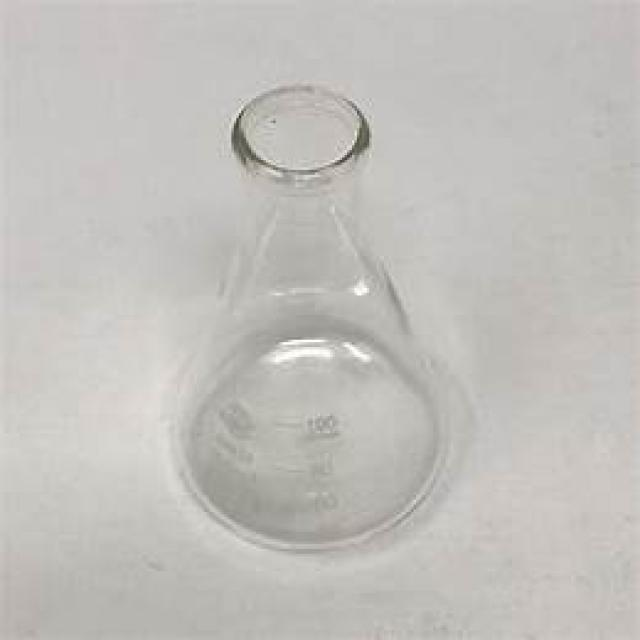Titrarion: (162, 83, 453, 549)
